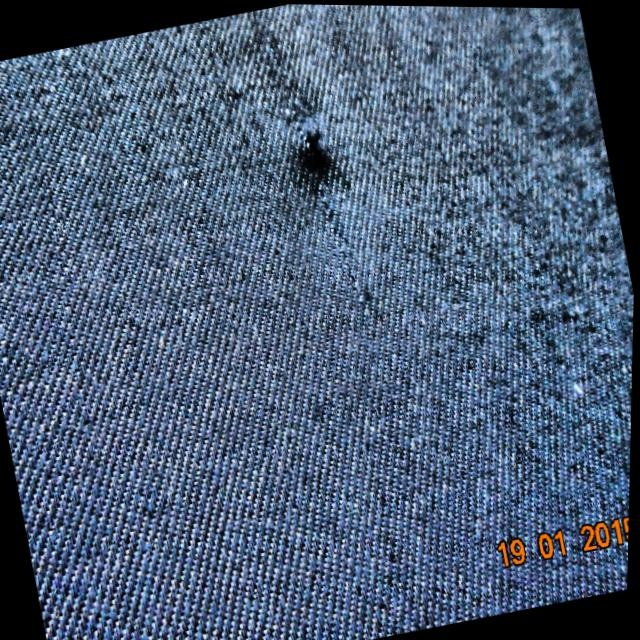Hole: (268, 106, 366, 216)
